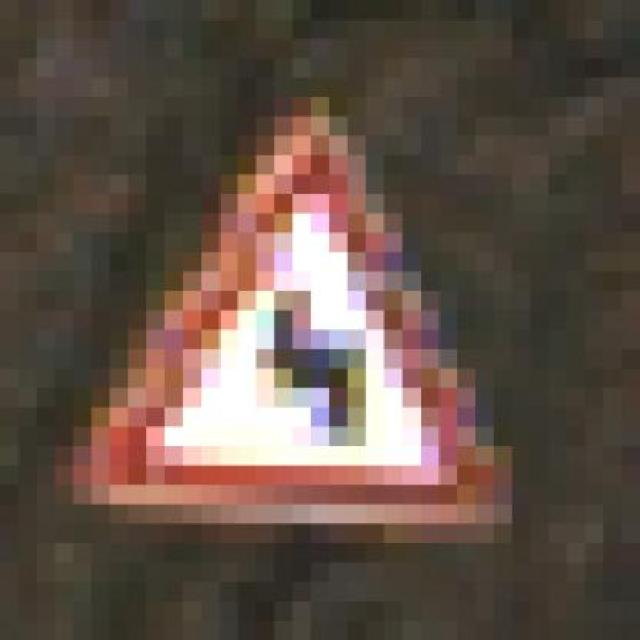Left Zig Zag Traffic: (55, 94, 567, 540)
